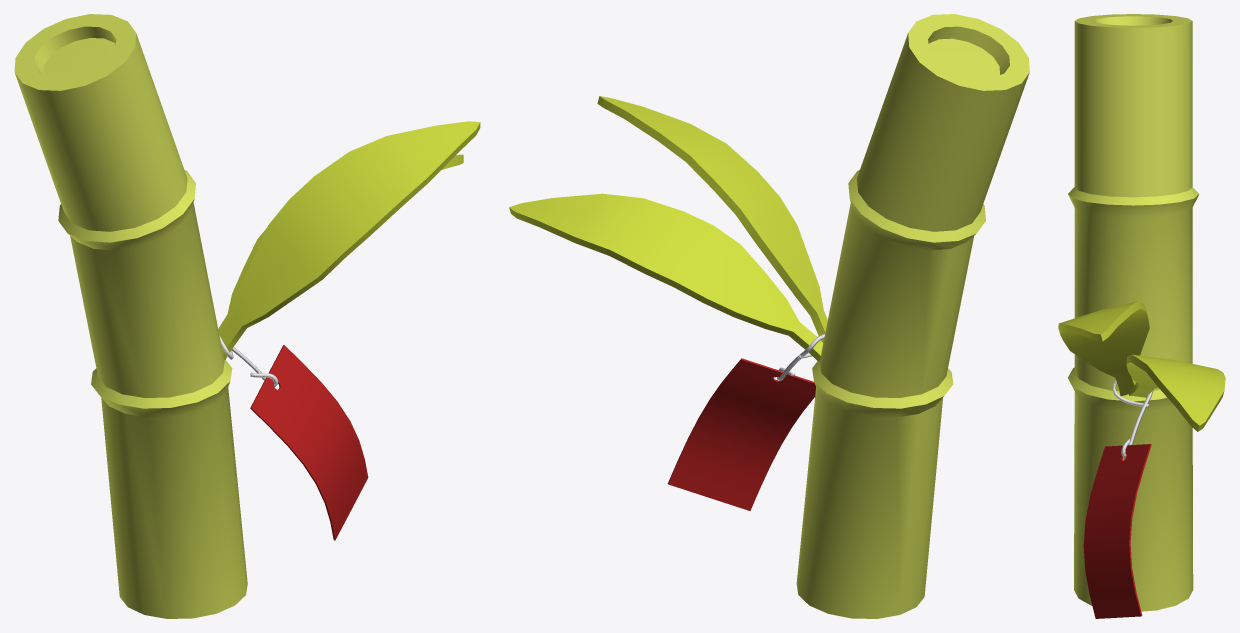
The model's file is tanabata_tree.glb.
3 renders of one model, left to right at view 1: azimuth 30°, elevation 25°; view 2: azimuth 150°, elevation 25°; view 3: azimuth 270°, elevation 25°, orthographic. The views are drawn at different scales.
Parts seen in each view (by area): view 1: Circle.2145, Plane.191, Plane.192; view 2: Circle.2145, Plane.191, Plane.192; view 3: Circle.2145, Plane.191, Plane.192, Plane.193.
Part boxes in pixels (box(x1,y1,x2,y2)): Circle.2145: box(14, 14, 247, 618); Plane.191: box(218, 121, 480, 359); Plane.192: box(250, 345, 368, 540); Circle.2145: box(796, 14, 1029, 618); Plane.191: box(509, 96, 827, 361); Plane.192: box(667, 358, 815, 510); Circle.2145: box(1068, 14, 1199, 611); Plane.191: box(1058, 301, 1225, 431); Plane.192: box(1083, 444, 1151, 618); Plane.193: box(1112, 380, 1153, 457).
Size of the model in its own units: 1.94 by 2.28 by 0.6405.
Materials: 1 (1 with a texture image).
